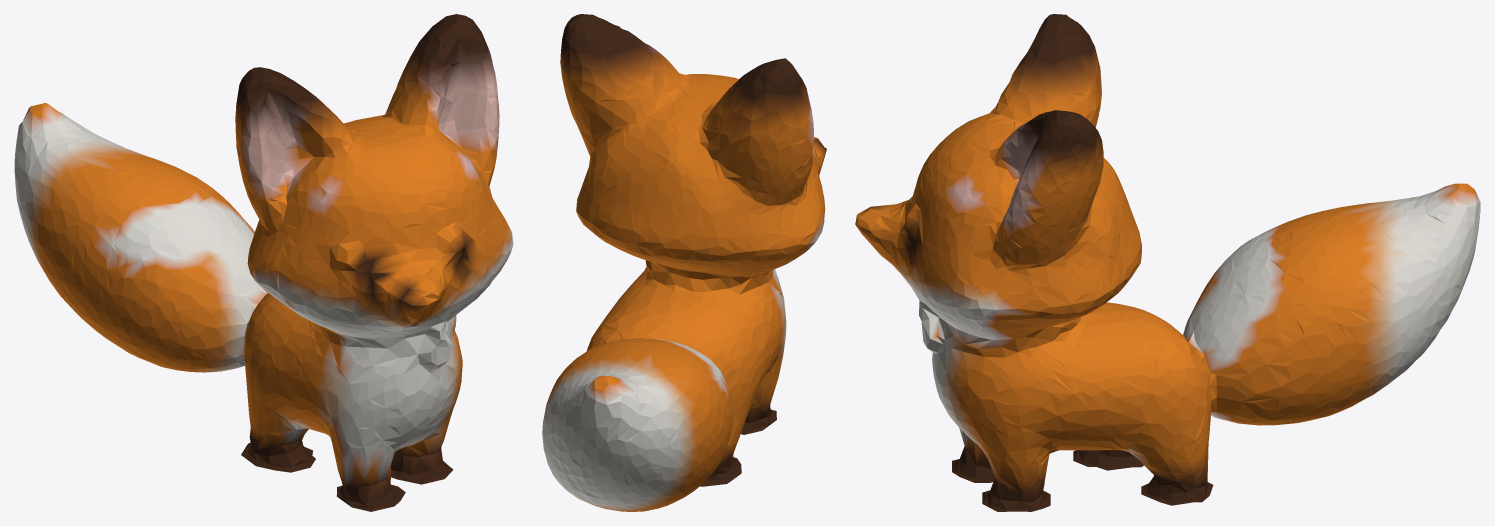
The model's file is fox2.glb.
3 renders of one model, left to right at view 1: azimuth 30°, elevation 25°; view 2: azimuth 150°, elevation 25°; view 3: azimuth 270°, elevation 25°, orthographic. The views are drawn at different scales.
Parts seen in each view (by area): view 1: geometry_0; view 2: geometry_0; view 3: geometry_0.
Boxes of the visible parts, x1,y1,x2,y2 form: geometry_0: (14, 14, 513, 511); geometry_0: (542, 14, 826, 511); geometry_0: (855, 14, 1480, 511).
Bounding box in the file's own units: 0.3503 × 0.4796 × 0.6489.
